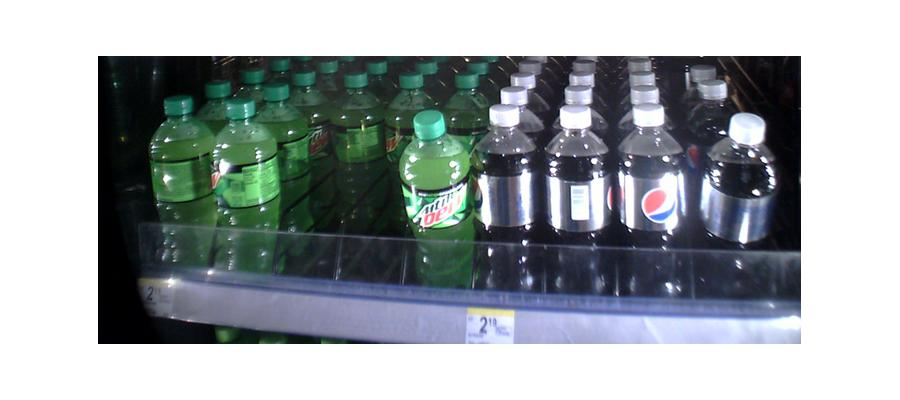bottle: (615, 93, 691, 297), (697, 111, 779, 294), (543, 101, 612, 299), (404, 106, 473, 290), (150, 95, 215, 284), (332, 66, 389, 281), (477, 101, 540, 295), (212, 98, 273, 279), (266, 76, 319, 269)
